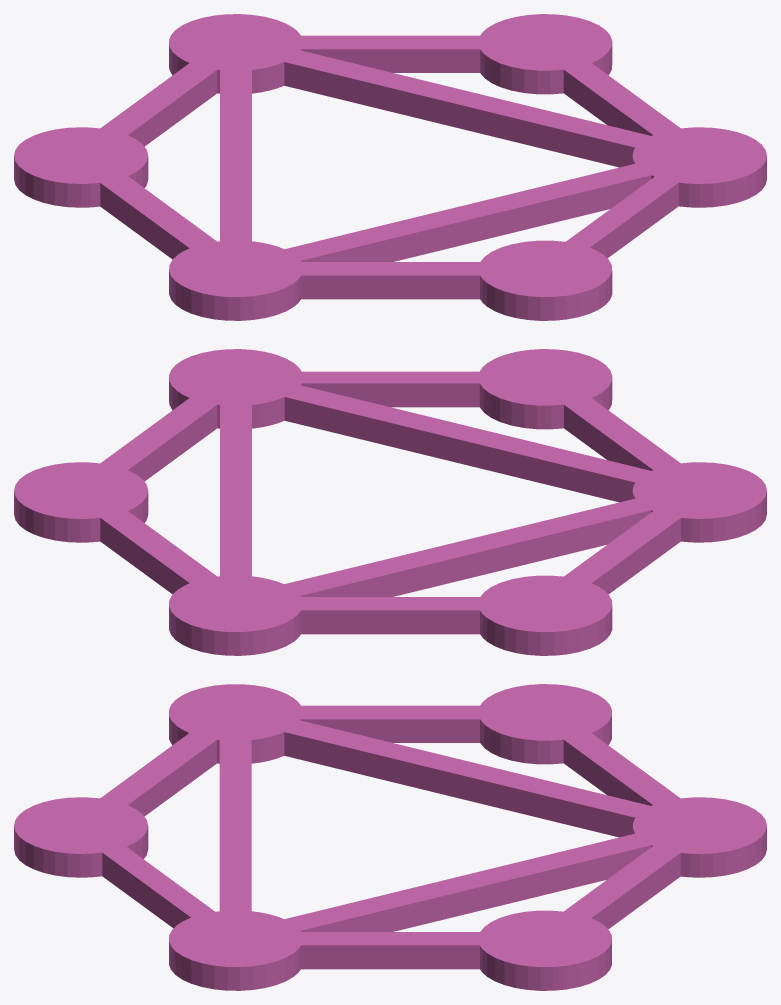
File: graphql.glb
3 views of the same model, one above another, from view 1: azimuth 30°, elevation 25°; view 2: azimuth 150°, elevation 25°; view 3: azimuth 270°, elevation 25° (orthographic).
Parts seen in each view (by area): view 1: Mesh_Mesh_head_geo.001_lambert2SG.001; view 2: Mesh_Mesh_head_geo.001_lambert2SG.001; view 3: Mesh_Mesh_head_geo.001_lambert2SG.001.
Boxes of the visible parts, x1,y1,x2,y2 form: Mesh_Mesh_head_geo.001_lambert2SG.001: (14, 14, 766, 320); Mesh_Mesh_head_geo.001_lambert2SG.001: (14, 349, 766, 655); Mesh_Mesh_head_geo.001_lambert2SG.001: (14, 684, 766, 990).
Size of the model in its own units: 35.58 by 1.39 by 40.
